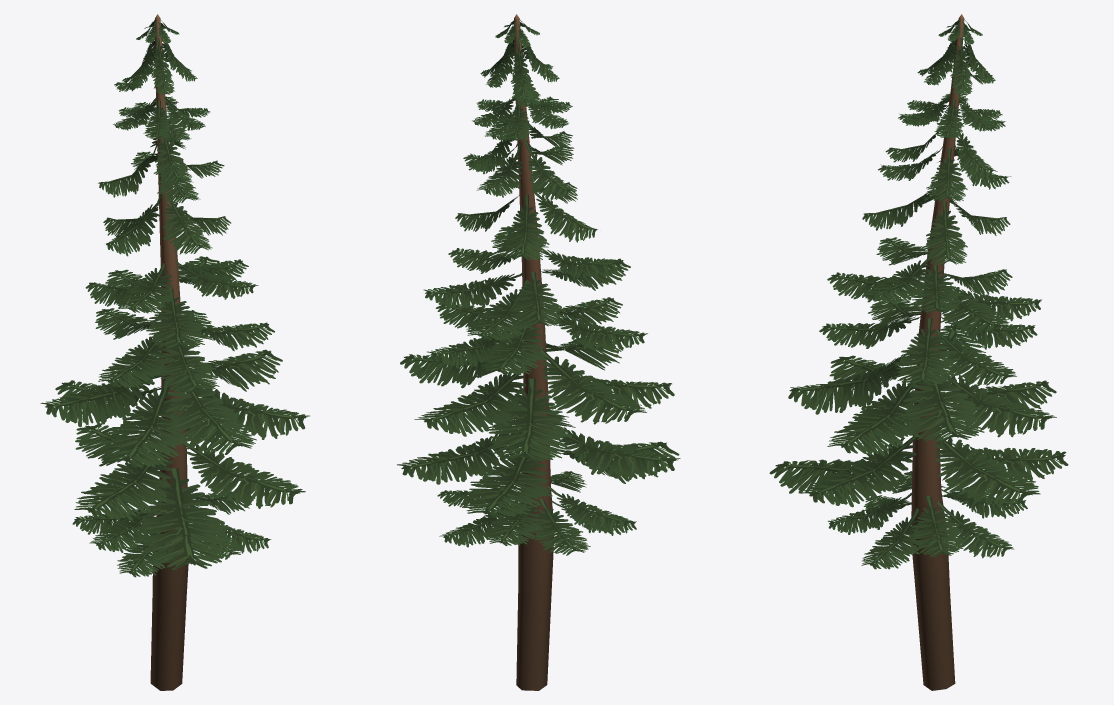
The model's file is Pine_Tree_3B.fbx.
3 views of the same model, side by side, from view 1: azimuth 30°, elevation 25°; view 2: azimuth 150°, elevation 25°; view 3: azimuth 270°, elevation 25° (orthographic). The views are drawn at different scales.
Parts seen in each view (by area): view 1: Pine_Tree_3B; view 2: Pine_Tree_3B; view 3: Pine_Tree_3B.
Part boxes in pixels (bbox=[...]): Pine_Tree_3B: bbox=[40, 14, 309, 690]; Pine_Tree_3B: bbox=[397, 14, 680, 690]; Pine_Tree_3B: bbox=[769, 14, 1068, 690].
Bounding box in the file's own units: 562 × 1262 × 611.
